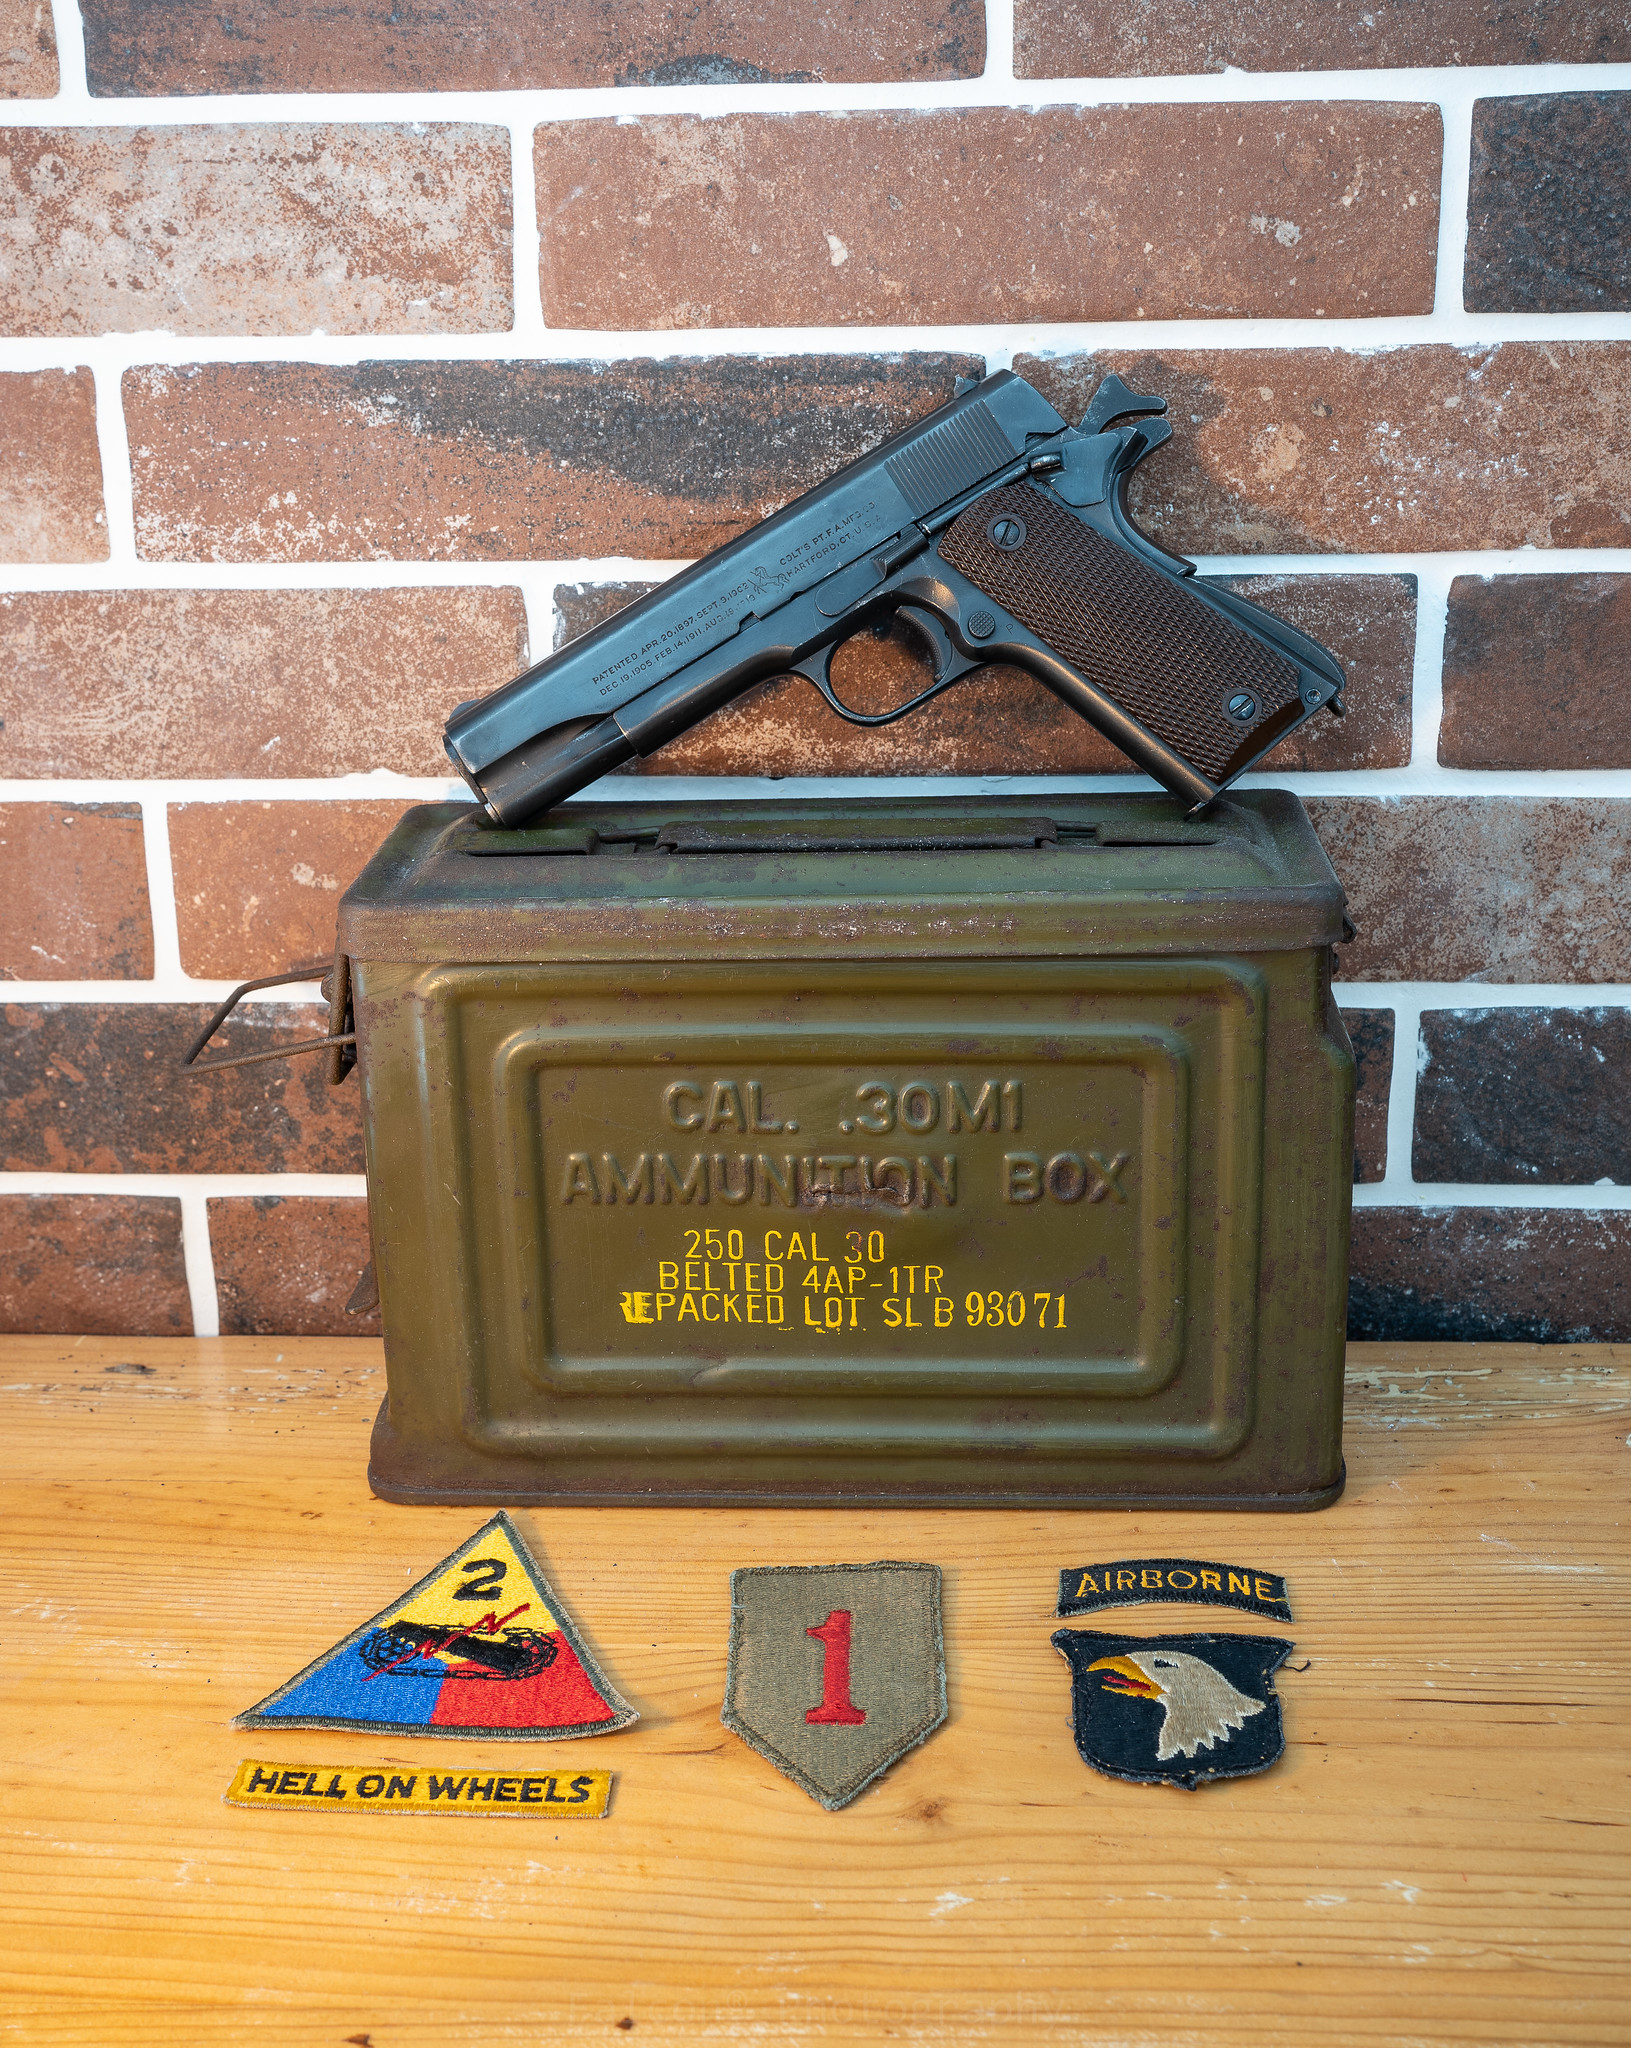gun: (433, 359, 1358, 832)
